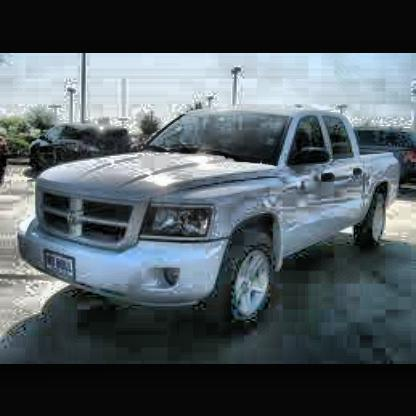Dodge Dakota Crew Cab 2010: (17, 106, 402, 327)
